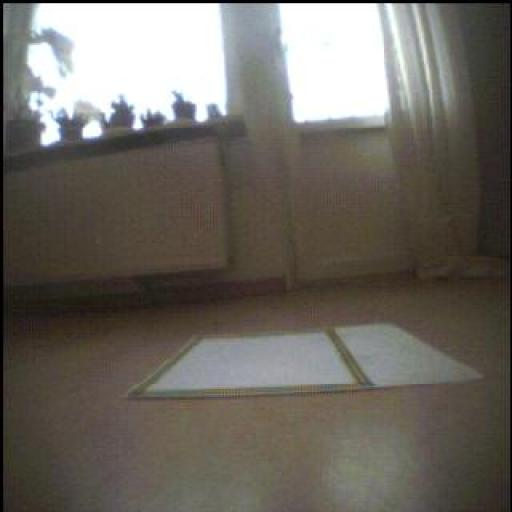Pad: (129, 326, 483, 399), (337, 326, 483, 388)
